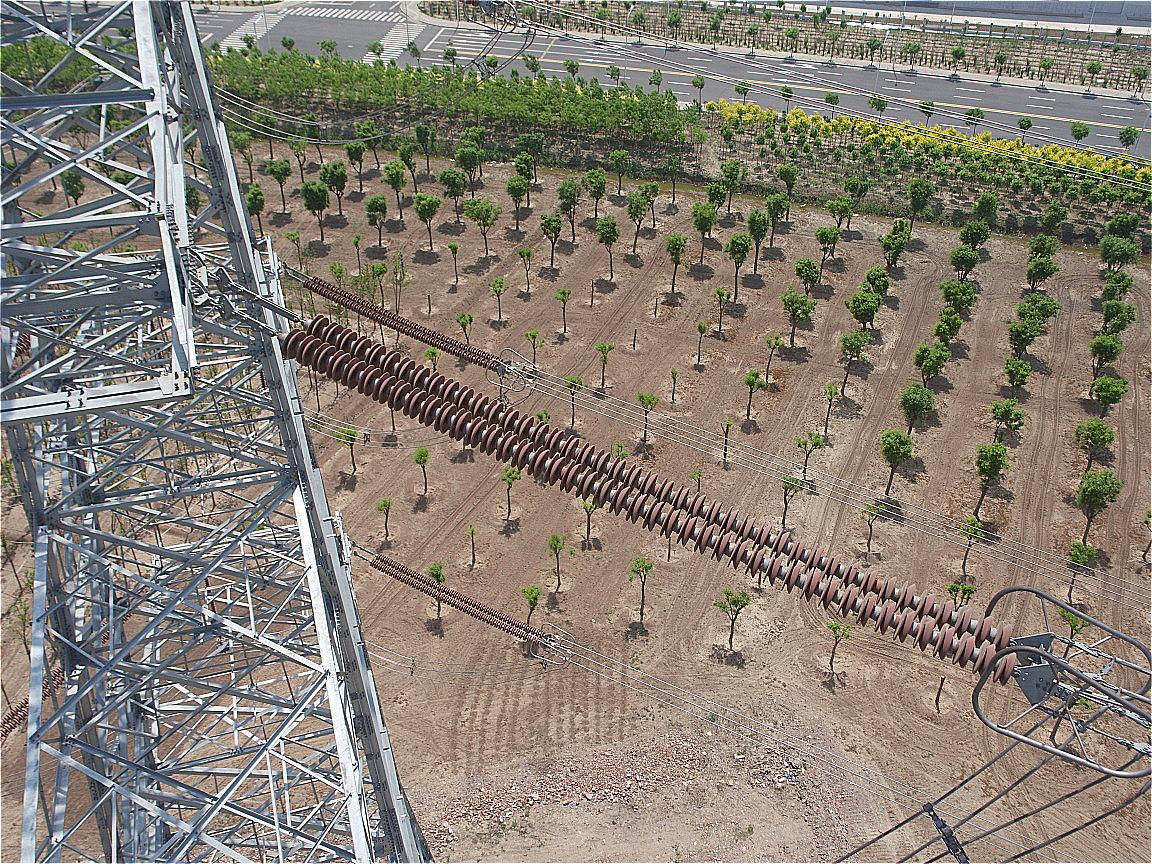insultor2: (284, 316, 1019, 686), (303, 276, 509, 375)
